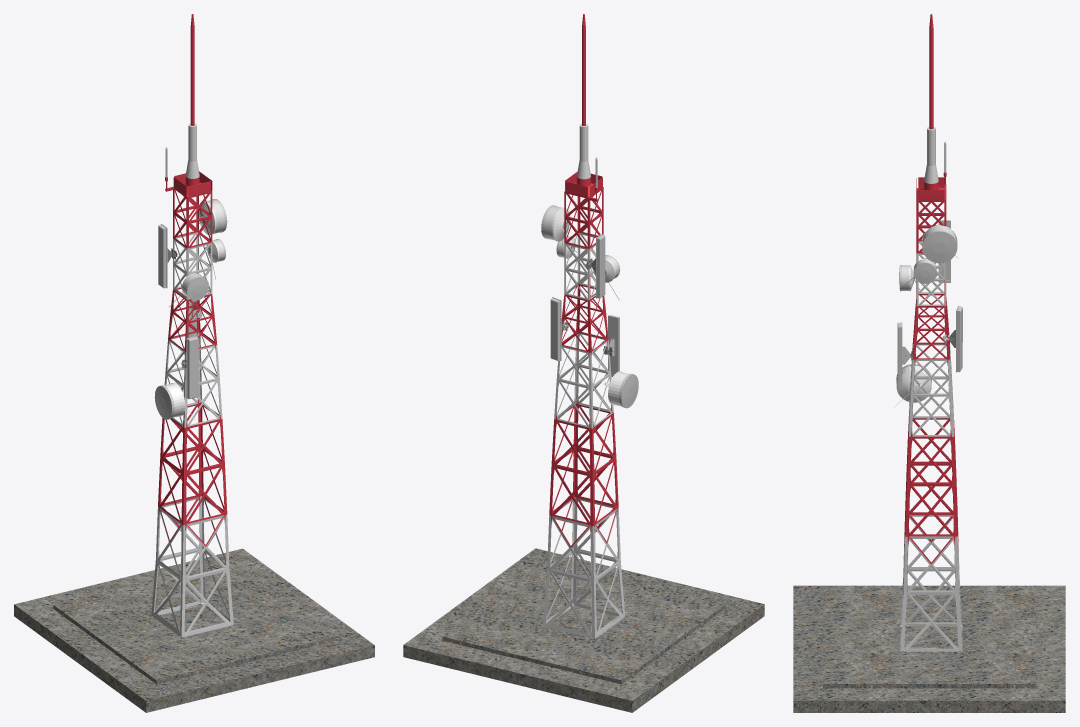
Rendered from 3d_design_base_transciver_station_radio_tower.glb.
3 views of the same model, side by side, from view 1: azimuth 30°, elevation 25°; view 2: azimuth 150°, elevation 25°; view 3: azimuth 270°, elevation 25° (orthographic). The views are drawn at different scales.
Visible parts, largest first — view 1: Plane.006_46, Cube_0, Plane.004_39, Plane.002_25; view 2: Plane.006_46, Cube_0, Plane.001_32, Plane.002_25, Plane.004_39; view 3: Plane.006_46, Cube_0, Circle.006_10, Circle.009_16, Plane.001_32.
Boxes of the visible parts, <box> form: Plane.006_46: <box>14,548,374,712</box>; Cube_0: <box>151,14,233,637</box>; Plane.004_39: <box>186,335,198,398</box>; Plane.002_25: <box>158,223,167,288</box>; Plane.006_46: <box>403,548,764,712</box>; Cube_0: <box>542,14,625,638</box>; Plane.001_32: <box>550,297,561,361</box>; Plane.002_25: <box>596,234,605,298</box>; Plane.004_39: <box>608,315,619,376</box>; Plane.006_46: <box>793,585,1065,712</box>; Cube_0: <box>900,14,962,651</box>; Circle.006_10: <box>922,230,957,263</box>; Circle.009_16: <box>896,370,931,402</box>; Plane.001_32: <box>956,305,962,372</box>.
Bounding box in the file's own units: 64.57 × 168 × 64.57.
Materials: 8 (1 with a texture image).
